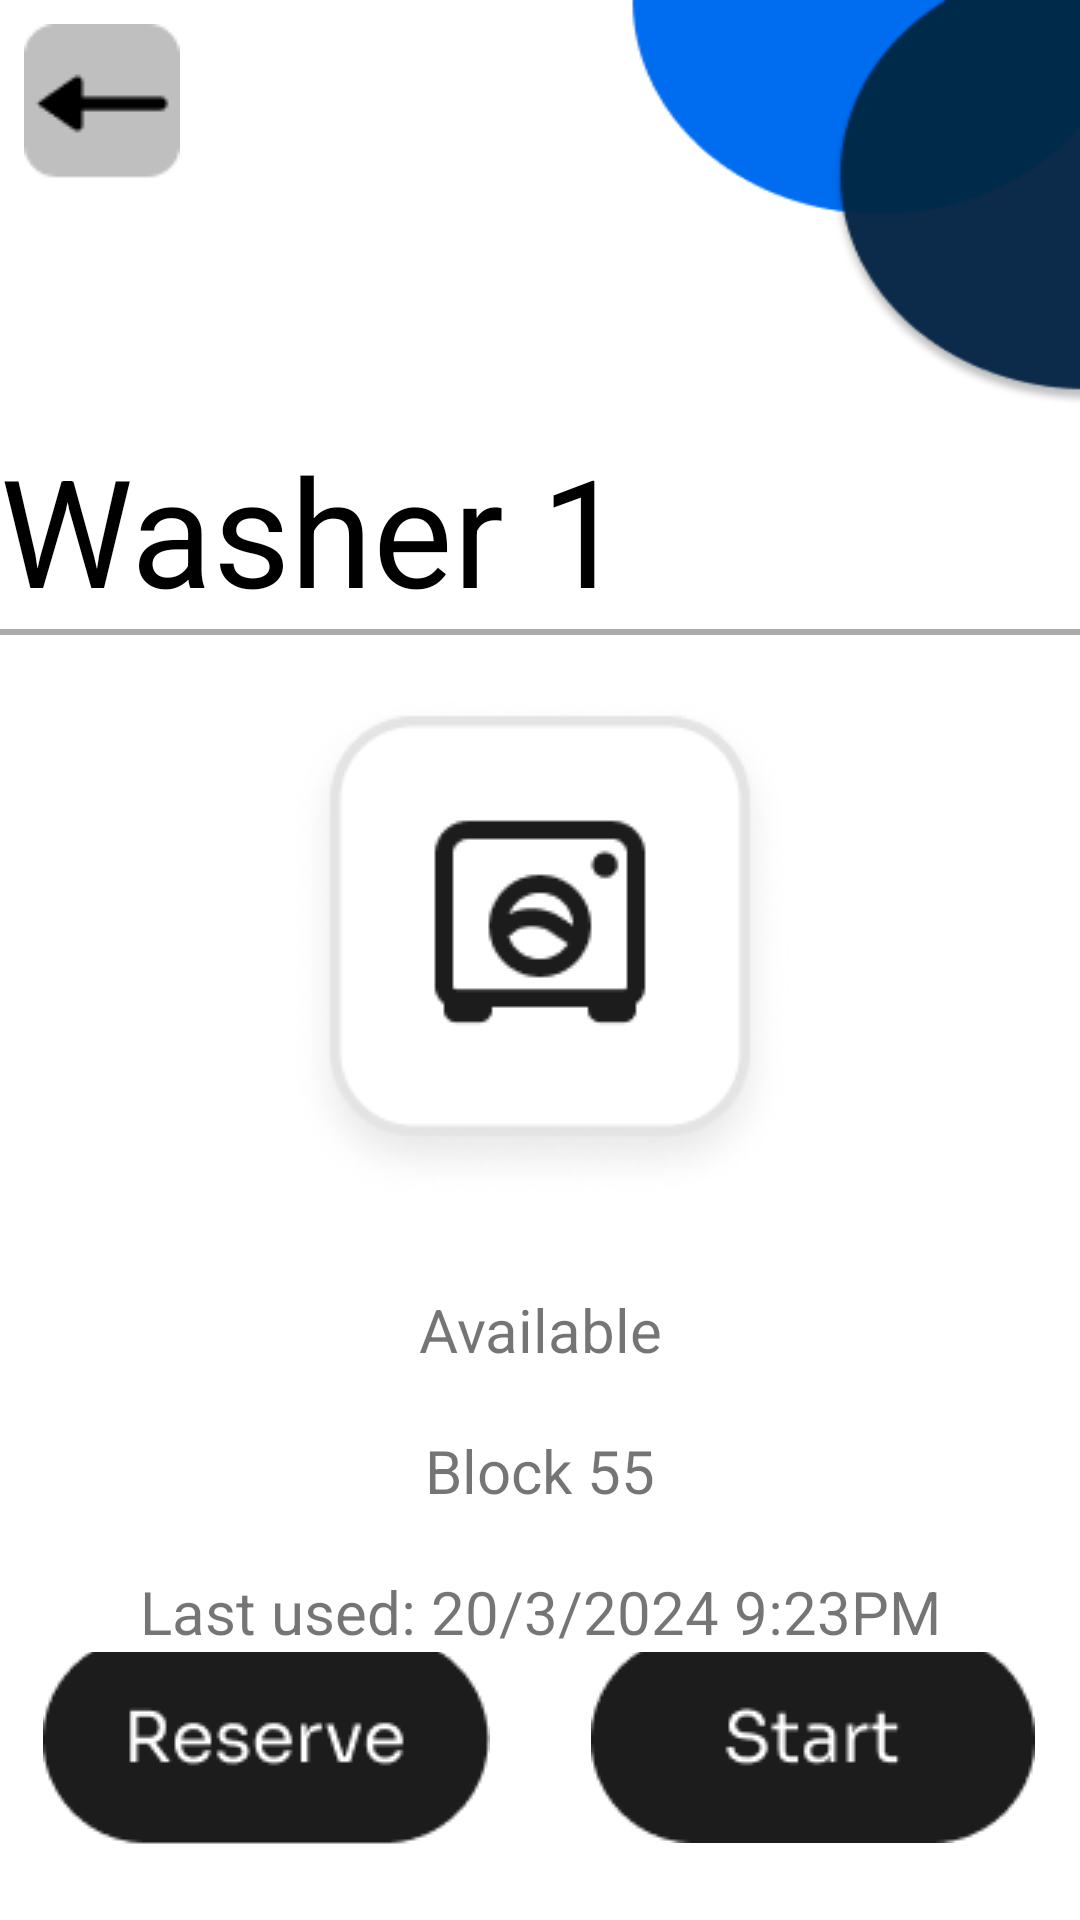

Locate icon controls on the screen. Image size 1080x1920, boxes as box=[x1, y1, x2, y2].
backbutton: box=[24, 24, 180, 177]
